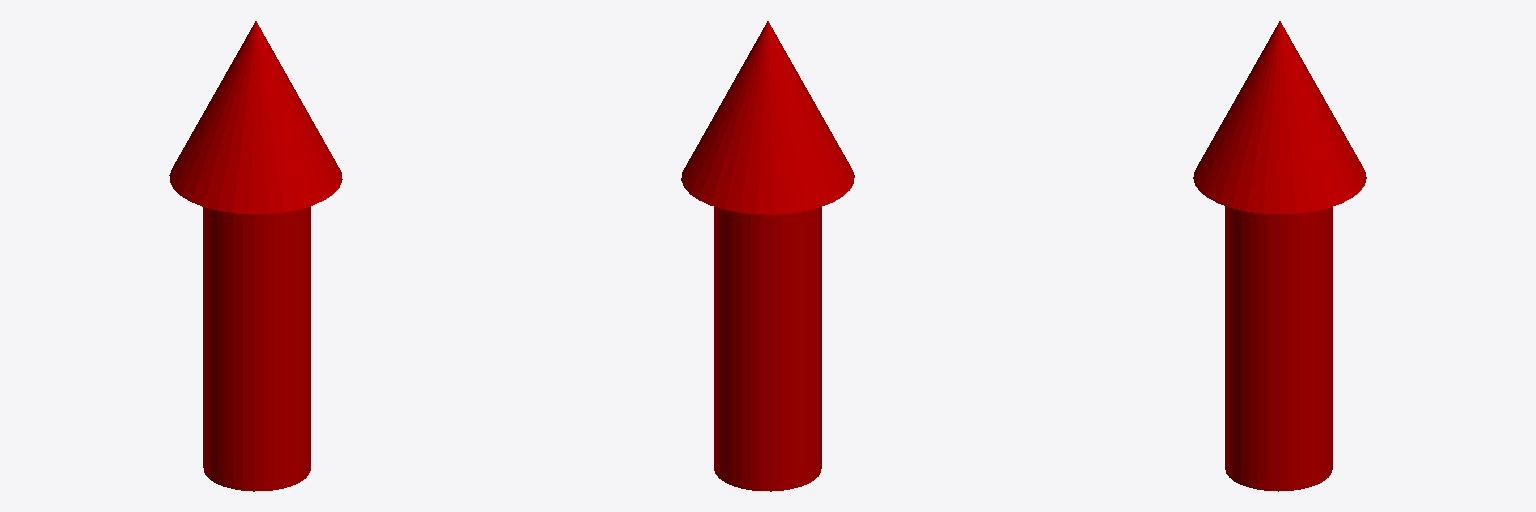
The robot description file, URDF, robot "box":
<?xml version="1.0" ?>
<robot name = "box">
  <material name="white">
    <color rgba="1.0 1.0 1.0 1.0"/>
  </material>
  <material name="metal">
    <color rgba="0.768627450980392 0.749019607843137 0.729411764705882 1"/>
  </material>
  <material name="metal_grey">
    <color rgba="0.501960784313725 0.501960784313725 0.501960784313725 1"/>
  </material>
  <material name="metal_white">
    <color rgba="0.866666666666667 0.866666666666667 0.890196078431373 1"/>
  </material>
    <material name="red">
    <color rgba="0.8 0.0 0.0 1.0"/>
  </material>

  <link name="world">
  </link>
  <joint name="world_fixed" type="fixed">
    <origin rpy="0 0 0" xyz="0 0 0"/>
    <parent link="world"/>
    <child link="arrow"/>
  </joint>
 
  <link name="arrow">
    <inertial>
      <mass value="100"/>
      <inertia ixx="0.1" ixy="0.0" ixz="0.0" iyy="0.1" iyz="0.0" izz="0.1"/>
    </inertial>
    <visual>
    <geometry>
        <mesh filename="meshes/abc.stl"  scale="0.04 0.04 0.04" />
    </geometry>
	<origin xyz="0 0 0"/>
	<material name="red">
        </material>
    </visual>
  </link>


</robot>

--- Facts derived from the render (not from the file) ---
The picture shows the robot from 3 angles, left to right: view 1: azimuth 30°, elevation 25°; view 2: azimuth 150°, elevation 25°; view 3: azimuth 270°, elevation 25°; orthographic projection.
Model box with 2 links and 1 joints (1 fixed), rooted at world, posed every joint at zero.
Visible links, largest first — view 1: arrow; view 2: arrow; view 3: arrow.
Link boxes in pixels (x1=…): arrow: x1=169, y1=21, x2=342, y2=491; arrow: x1=681, y1=21, x2=854, y2=491; arrow: x1=1193, y1=21, x2=1366, y2=491.
Bounding box of the posed robot: 0.0906 × 0.0906 × 0.2582 m (x, y, z).
1 mesh visuals loaded from 1 distinct referenced files (1 binary STL).